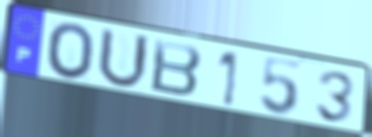1: (216, 50, 240, 108)
3: (315, 71, 356, 124)
5: (258, 54, 307, 118)
B: (148, 37, 204, 99)
O: (46, 21, 97, 83)
U: (95, 25, 152, 91)
